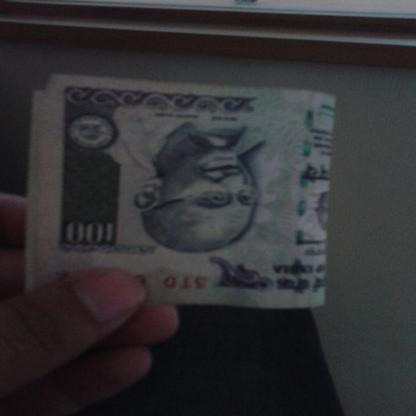Old100Front: (27, 73, 337, 308)
